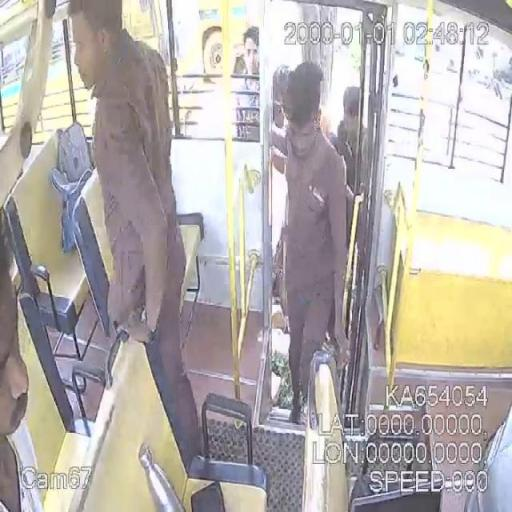persona: (64, 1, 202, 471), (268, 60, 350, 426), (0, 212, 48, 512)
